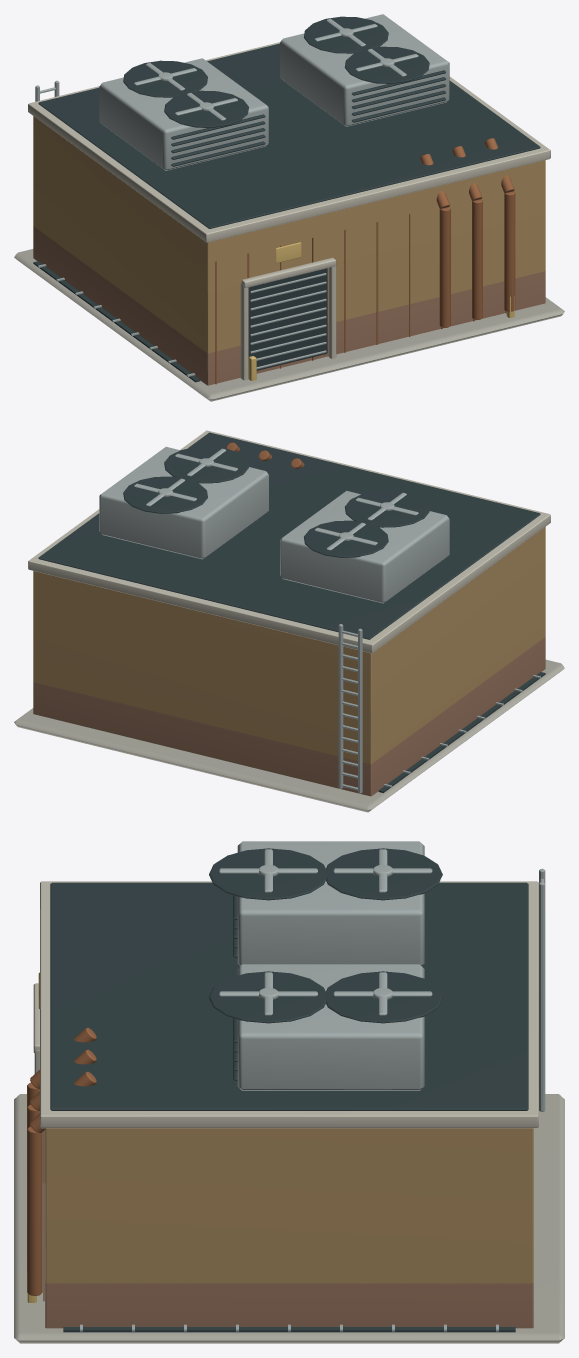
File: CoolingHall.glb
The picture shows the model from 3 angles, top to bottom: view 1: azimuth 30°, elevation 25°; view 2: azimuth 150°, elevation 25°; view 3: azimuth 270°, elevation 25°; orthographic projection. The views are drawn at different scales.
Parts seen in each view (by area): view 1: Corrugated hall, Dark roof membrane, Brick plinth, Roof parapet, Service apron.001, Ventilation unit.001, Ventilation unit, Roll-up loading door.002, Fan recess.002, Fan recess, Fan recess.003, Fan recess.001 (+7 smaller); view 2: Corrugated hall, Dark roof membrane, Brick plinth, Ventilation unit.001, Ventilation unit, Roof parapet, Service apron.001, Fan recess.001, Fan recess.003, Fan recess.002, Fan recess, Drain channel.002 (+2 smaller); view 3: Corrugated hall, Dark roof membrane, Brick plinth, Service apron.001, Ventilation unit.001, Ventilation unit, Roof parapet, Fan recess.002, Fan recess, Fan recess.001, Fan recess.003, External feed pipe.002 (+2 smaller).
Part boxes in pixels (left/top/right/bottom): Corrugated hall: left=33, top=116, right=545, bottom=353; Dark roof membrane: left=38, top=43, right=540, bottom=228; Brick plinth: left=33, top=226, right=545, bottom=385; Roof parapet: left=28, top=42, right=550, bottom=242; Service apron.001: left=14, top=249, right=564, bottom=401; Ventilation unit.001: left=280, top=14, right=449, bottom=126; Ventilation unit: left=99, top=58, right=268, bottom=170; Roll-up loading door.002: left=248, top=268, right=327, bottom=370; Fan recess.002: left=344, top=46, right=429, bottom=83; Fan recess: left=164, top=90, right=248, bottom=127; Fan recess.003: left=304, top=16, right=388, bottom=53; Fan recess.001: left=123, top=60, right=207, bottom=97; Corrugated hall: left=33, top=527, right=545, bottom=763; Dark roof membrane: left=38, top=432, right=540, bottom=639; Brick plinth: left=33, top=637, right=545, bottom=796; Ventilation unit.001: left=99, top=446, right=268, bottom=559; Ventilation unit: left=280, top=490, right=449, bottom=603; Roof parapet: left=28, top=430, right=550, bottom=653; Service apron.001: left=14, top=659, right=564, bottom=812; Fan recess.001: left=304, top=520, right=388, bottom=557; Fan recess.003: left=123, top=476, right=207, bottom=513; Fan recess.002: left=164, top=446, right=248, bottom=483; Fan recess: left=345, top=490, right=429, bottom=527; Drain channel.002: left=378, top=672, right=545, bottom=792; Corrugated hall: left=45, top=1128, right=533, bottom=1284; Dark roof membrane: left=50, top=882, right=528, bottom=1110; Brick plinth: left=45, top=1283, right=533, bottom=1328; Service apron.001: left=14, top=1094, right=564, bottom=1343; Ventilation unit.001: left=237, top=964, right=424, bottom=1090; Ventilation unit: left=237, top=841, right=424, bottom=965; Roof parapet: left=40, top=881, right=538, bottom=1128; Fan recess.002: left=209, top=971, right=326, bottom=1023; Fan recess: left=209, top=848, right=326, bottom=900; Fan recess.001: left=325, top=848, right=442, bottom=900; Fan recess.003: left=325, top=971, right=442, bottom=1023; External feed pipe.002: left=27, top=1126, right=42, bottom=1296.
Bounding box in the file's own units: 11.1 × 6.25 × 10.6.
